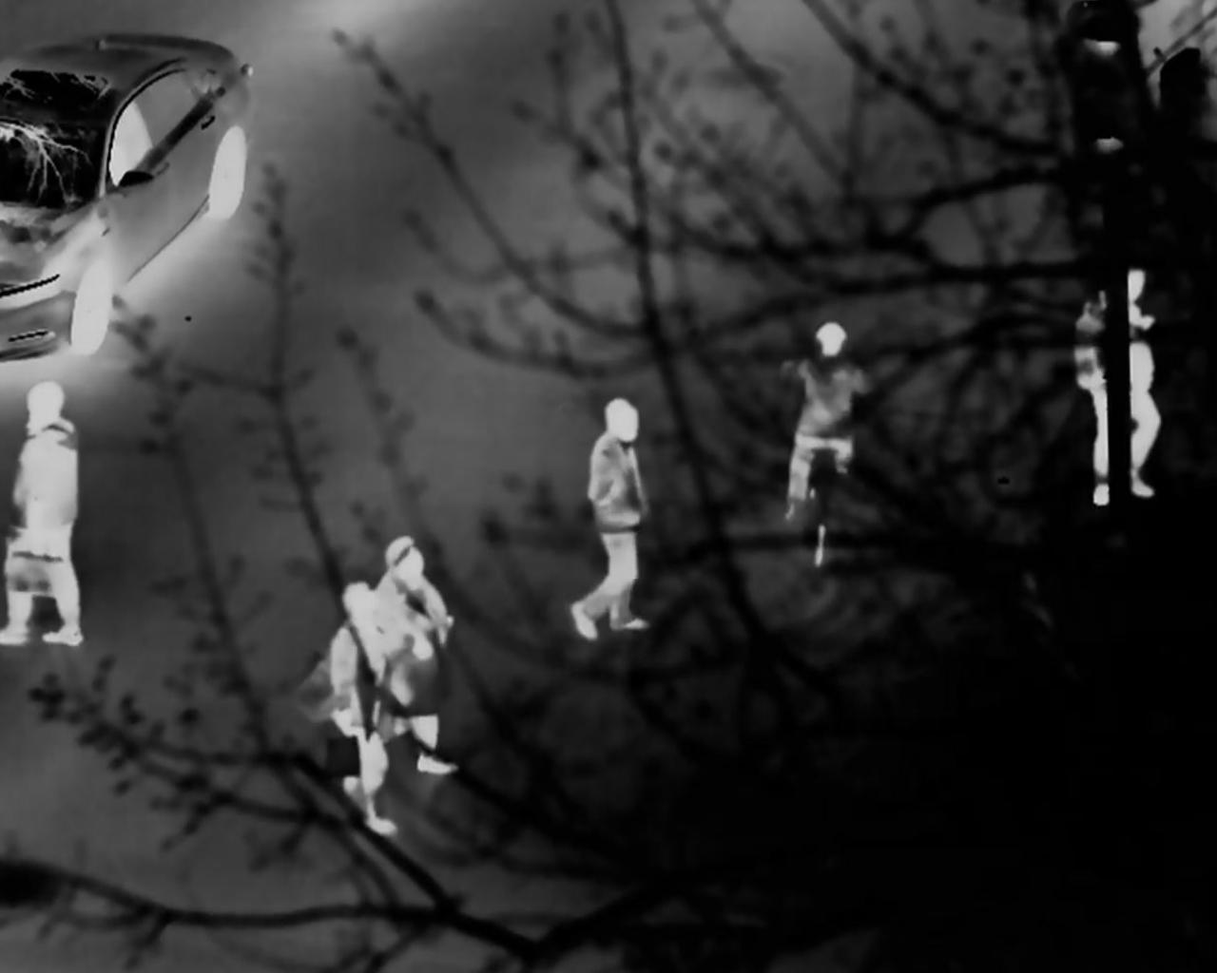person: (2, 380, 92, 650), (777, 318, 879, 551), (367, 534, 459, 781), (332, 566, 419, 824), (583, 391, 663, 638), (1083, 270, 1161, 518)
